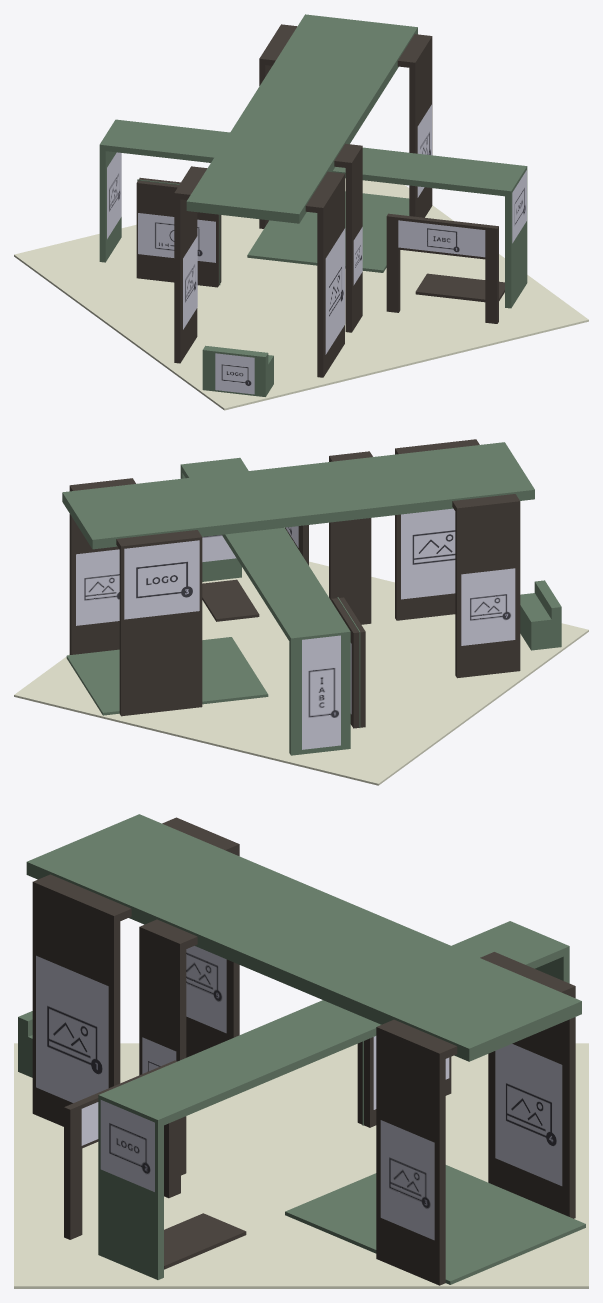
Rendered from stant59.gltf.
The picture shows the model from 3 angles, top to bottom: view 1: azimuth 30°, elevation 25°; view 2: azimuth 150°, elevation 25°; view 3: azimuth 270°, elevation 25°; orthographic projection. The views are drawn at different scales.
Parts seen in each view (by area): view 1: modrenk1, modzemin, modrenk2, modyazi1, modvideo1, moddikgorsel1, modlogo1, moddikgorsel9, moddikgorsel10, modlogo2, moddikgorsel3; view 2: modrenk1, modzemin, modrenk2, modlogo3, moddikgorsel8, moddikyazi1, moddikgorsel7, moddikgorsel5, moddikgorsel6; view 3: modrenk1, modzemin, modrenk2, moddikgorsel1, moddikgorsel4, moddikgorsel3, modlogo2, moddikgorsel9, moddikgorsel2, modyazi2.
Part boxes in pixels (x1,y1,x2,y2): modrenk1: (99,14,527,396); modzemin: (14,178,588,410); modrenk2: (136,24,504,377); modyazi1: (398,220,485,257); modvideo1: (138,213,215,262); moddikgorsel1: (325,228,345,354); modlogo1: (215,353,254,394); moddikgorsel9: (183,236,197,329); moddikgorsel10: (107,152,121,238); modlogo2: (512,170,526,243); moddikgorsel3: (417,104,431,197); modrenk1: (62,442,561,755); modzemin: (14,561,588,785); modrenk2: (69,439,520,728); modlogo3: (124,540,199,619); moddikgorsel8: (401,508,455,599); moddikyazi1: (302,635,340,749); moddikgorsel7: (461,568,515,645); moddikgorsel5: (76,549,119,625); moddikgorsel6: (202,535,236,561); modrenk1: (18,814,585,1284); modzemin: (14,1043,588,1288); modrenk2: (32,817,575,1285); moddikgorsel1: (36,955,108,1102); moddikgorsel4: (495,1044,562,1185); moddikgorsel3: (380,1120,434,1240); modlogo2: (100,1100,154,1191); moddikgorsel9: (186,946,226,1033); moddikgorsel2: (142,1037,176,1073); modyazi2: (81,1102,98,1145).
Size of what is drawn, in the model's own units: 1 by 0.455 by 1.
Materials: 21 (18 with a texture image).
